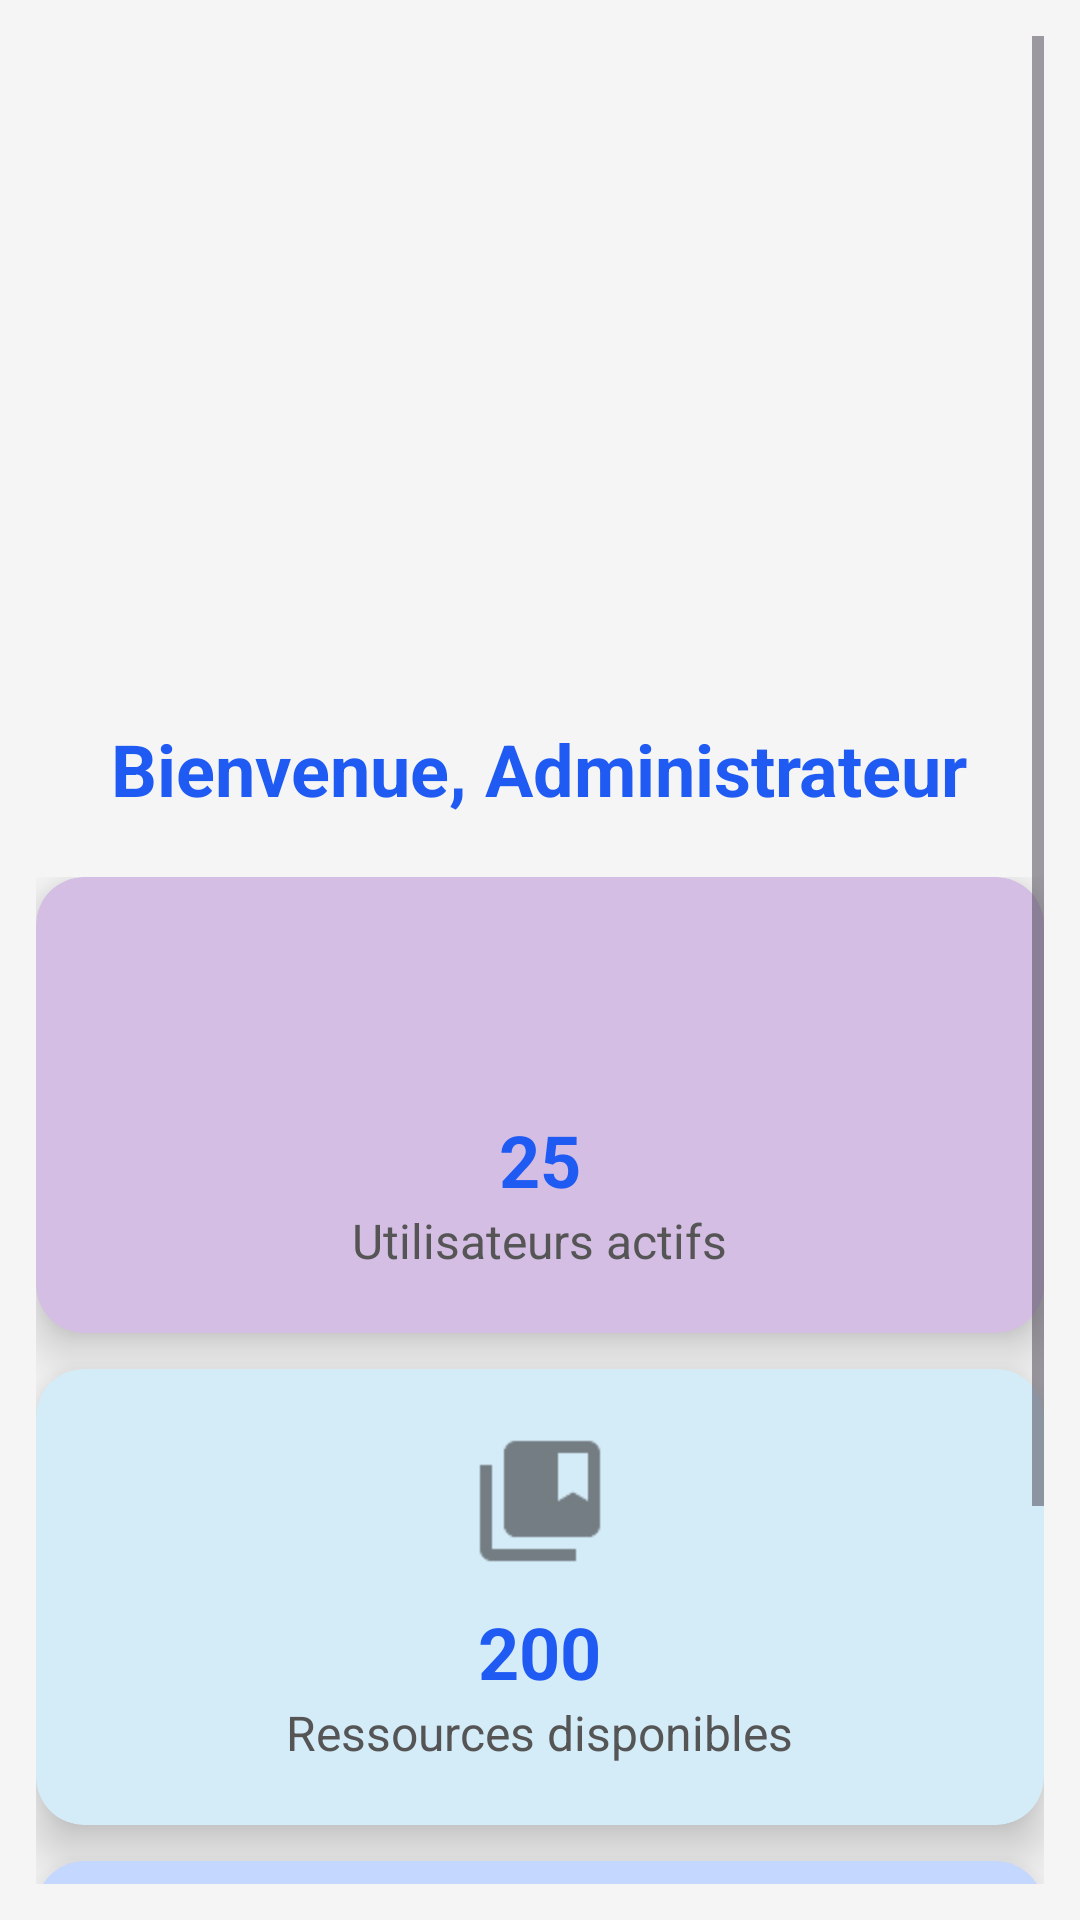

Point at icon controls on the screen. Image size 1080×1920, points as (x,y).
Icone Ressources: (540,1501)
